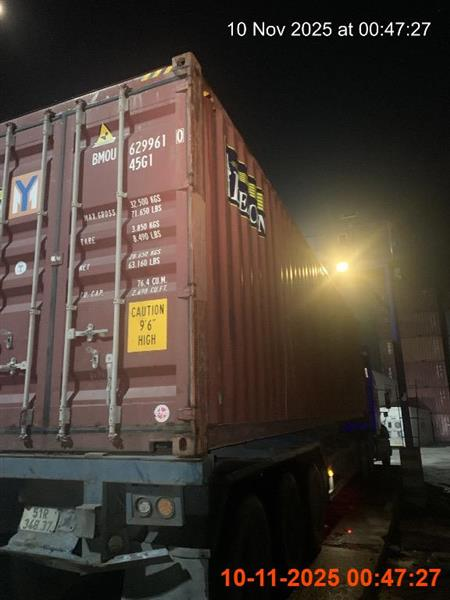broken: (0, 52, 391, 599)
